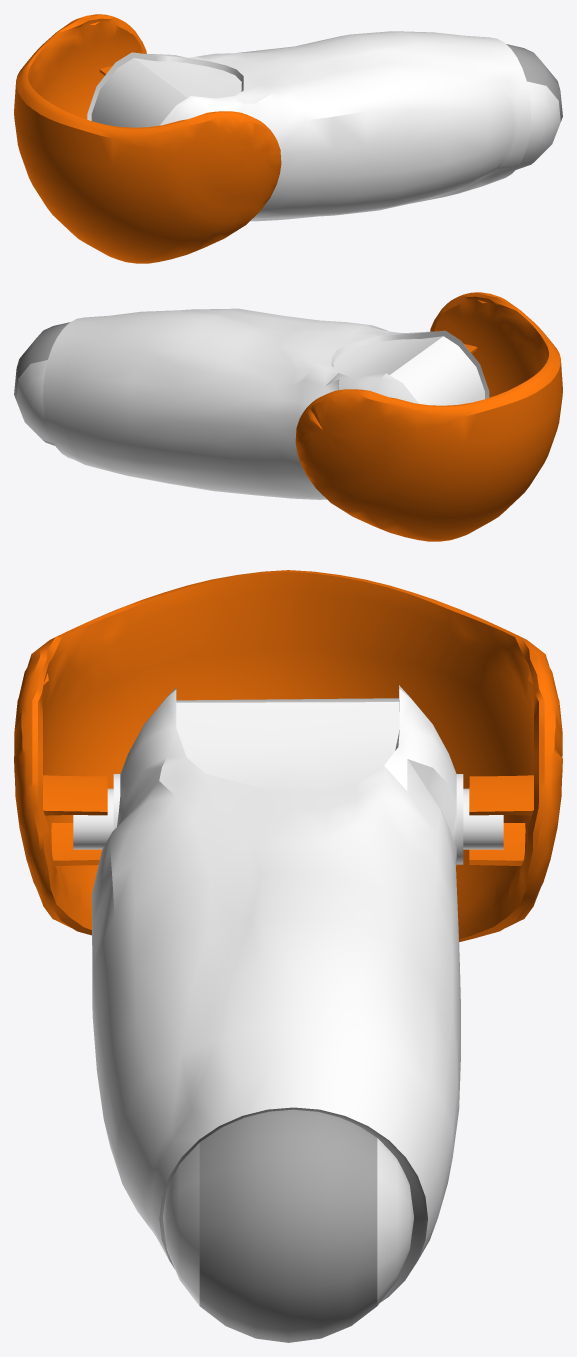
Rendered from RShoulderRoll.obj.
3 views of the same model, one above another, from view 1: azimuth 30°, elevation 25°; view 2: azimuth 150°, elevation 25°; view 3: azimuth 270°, elevation 25° (orthographic). The views are drawn at different scales.
Visible parts, largest first — view 1: RShoulderRoll_Mesh.025; view 2: RShoulderRoll_Mesh.025; view 3: RShoulderRoll_Mesh.025.
Boxes of the visible parts, box(x1,y1,x2,y2) form: RShoulderRoll_Mesh.025: box(14, 14, 562, 263); RShoulderRoll_Mesh.025: box(14, 292, 562, 541); RShoulderRoll_Mesh.025: box(14, 570, 562, 1342).
Size of the model in its own units: 170 by 60.42 by 81.69.
